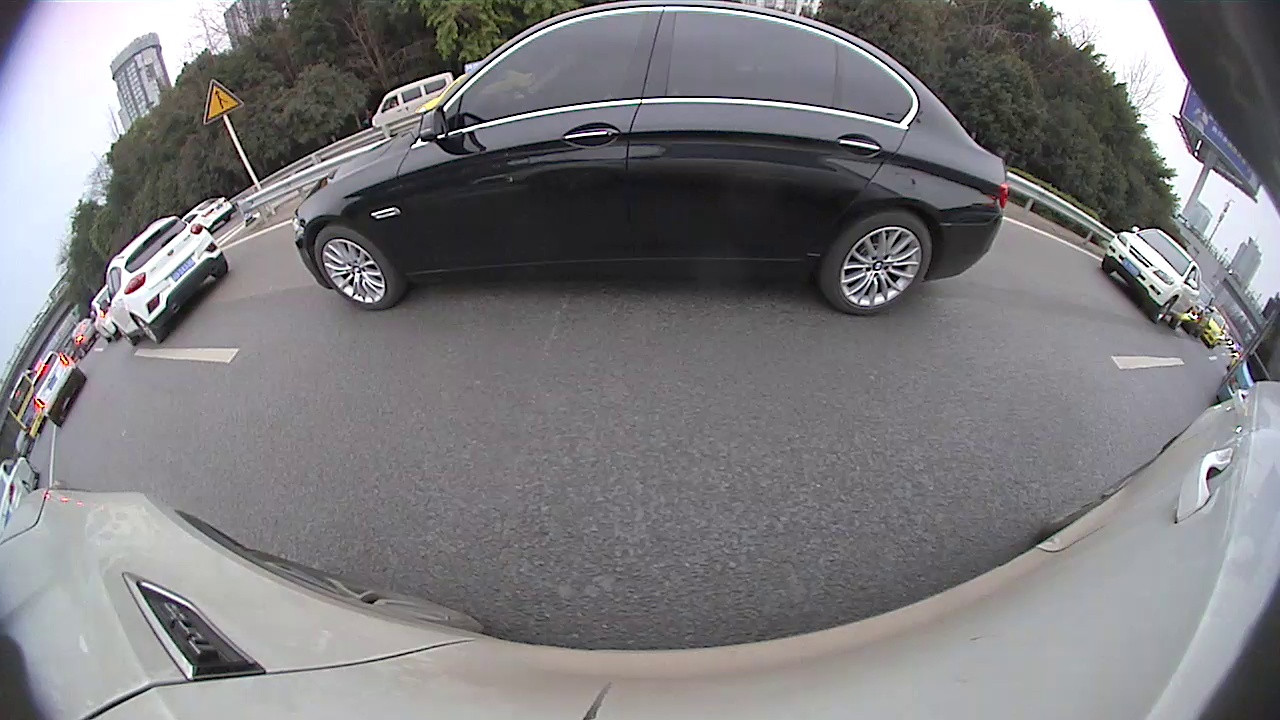bus: (5, 370, 53, 441)
car: (291, 1, 1009, 318), (103, 215, 234, 345), (1100, 225, 1204, 330), (370, 71, 464, 130), (28, 348, 90, 428), (181, 195, 240, 232), (89, 288, 113, 344)
front: (311, 225, 401, 312), (1151, 296, 1178, 325)
rear: (819, 208, 936, 317), (132, 312, 161, 344)
